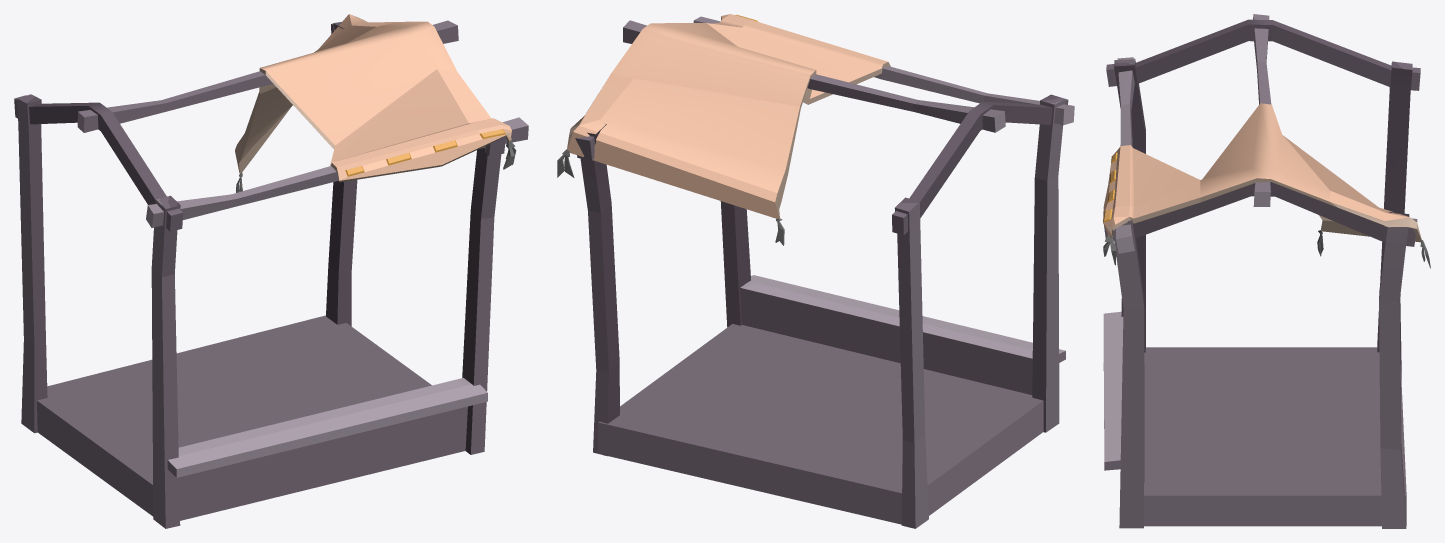
File: MarketStall_Yellow_broken.fbx
The picture shows the model from 3 angles, left to right: view 1: azimuth 30°, elevation 25°; view 2: azimuth 150°, elevation 25°; view 3: azimuth 270°, elevation 25°; orthographic projection. The views are drawn at different scales.
Visible parts, largest first — view 1: MarketStall_Yellow_broken; view 2: MarketStall_Yellow_broken; view 3: MarketStall_Yellow_broken.
Boxes of the visible parts, x1,y1,x2,y2 form: MarketStall_Yellow_broken: (14, 14, 528, 528); MarketStall_Yellow_broken: (557, 14, 1074, 528); MarketStall_Yellow_broken: (1103, 14, 1430, 528).
Bounding box in the file's own units: 3.2 × 3.01 × 2.48.
